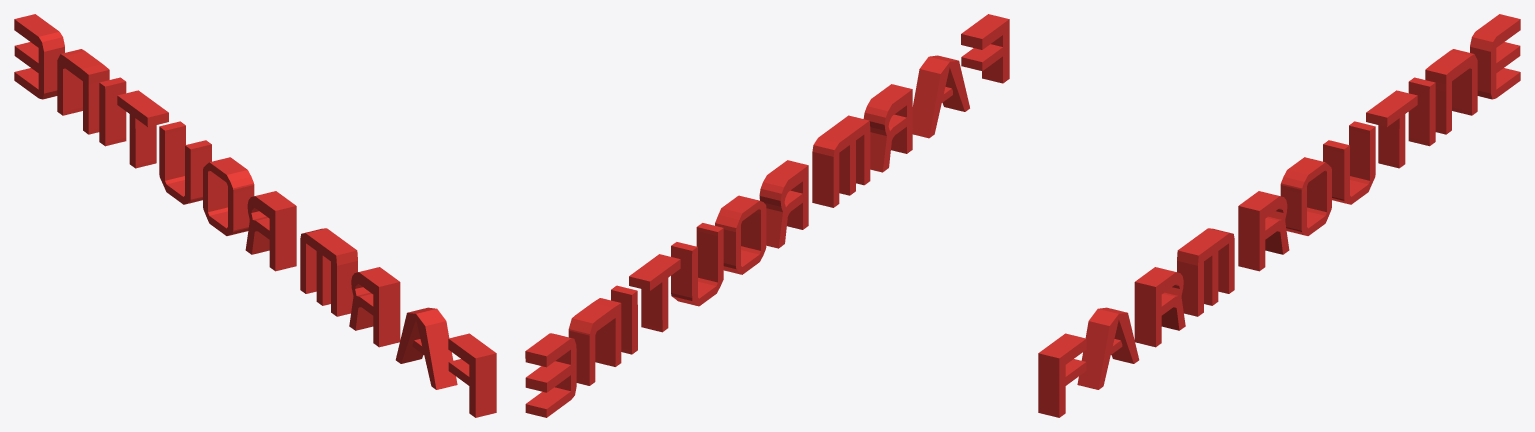
Rendered from Farm_Routine_Title.fbx.
The picture shows the model from 3 angles, left to right: view 1: azimuth 30°, elevation 25°; view 2: azimuth 150°, elevation 25°; view 3: azimuth 330°, elevation 25°; orthographic projection.
Parts seen in each view (by area): view 1: Farm_Routine; view 2: Farm_Routine; view 3: Farm_Routine.
Boxes of the visible parts, bbox=[...] form: Farm_Routine: bbox=[14, 14, 496, 417]; Farm_Routine: bbox=[525, 14, 1009, 417]; Farm_Routine: bbox=[1038, 14, 1520, 417].
Bounding box in the file's own units: 200 × 7576 × 563.
